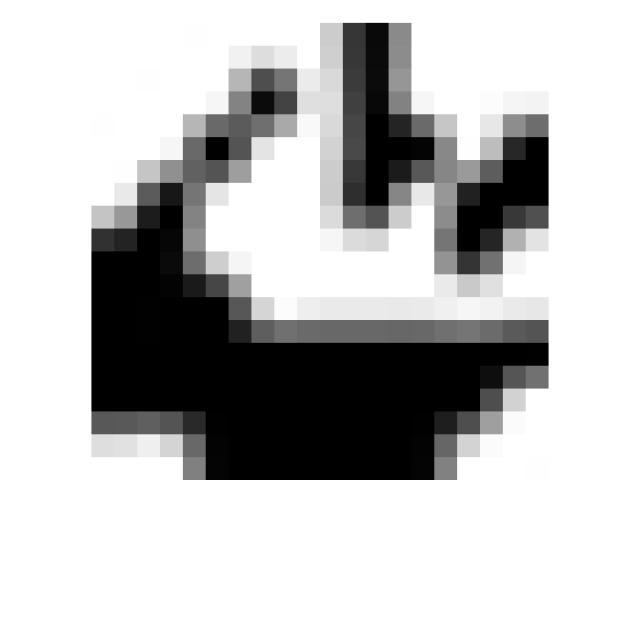0 -zero-: (69, 11, 570, 497)
